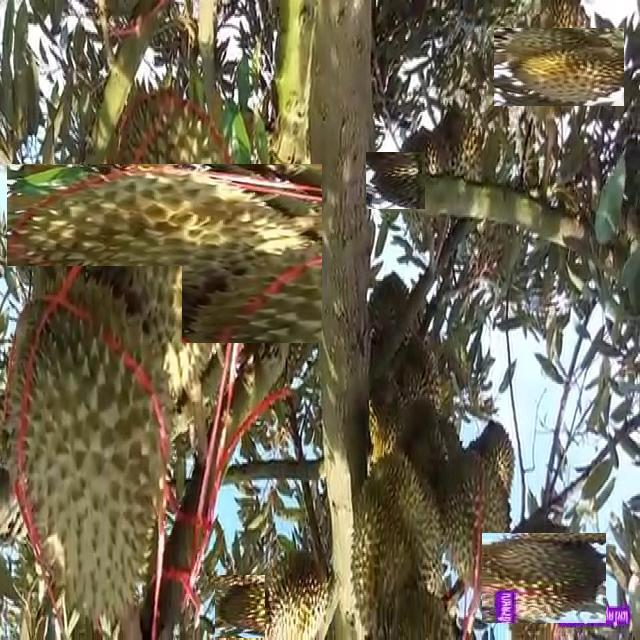durian: (3, 266, 182, 633), (41, 129, 288, 377), (351, 447, 450, 636), (437, 444, 513, 604), (491, 524, 598, 632), (507, 15, 612, 119), (425, 101, 486, 230), (380, 137, 467, 224), (265, 548, 332, 640), (358, 362, 409, 472), (215, 574, 280, 639)
